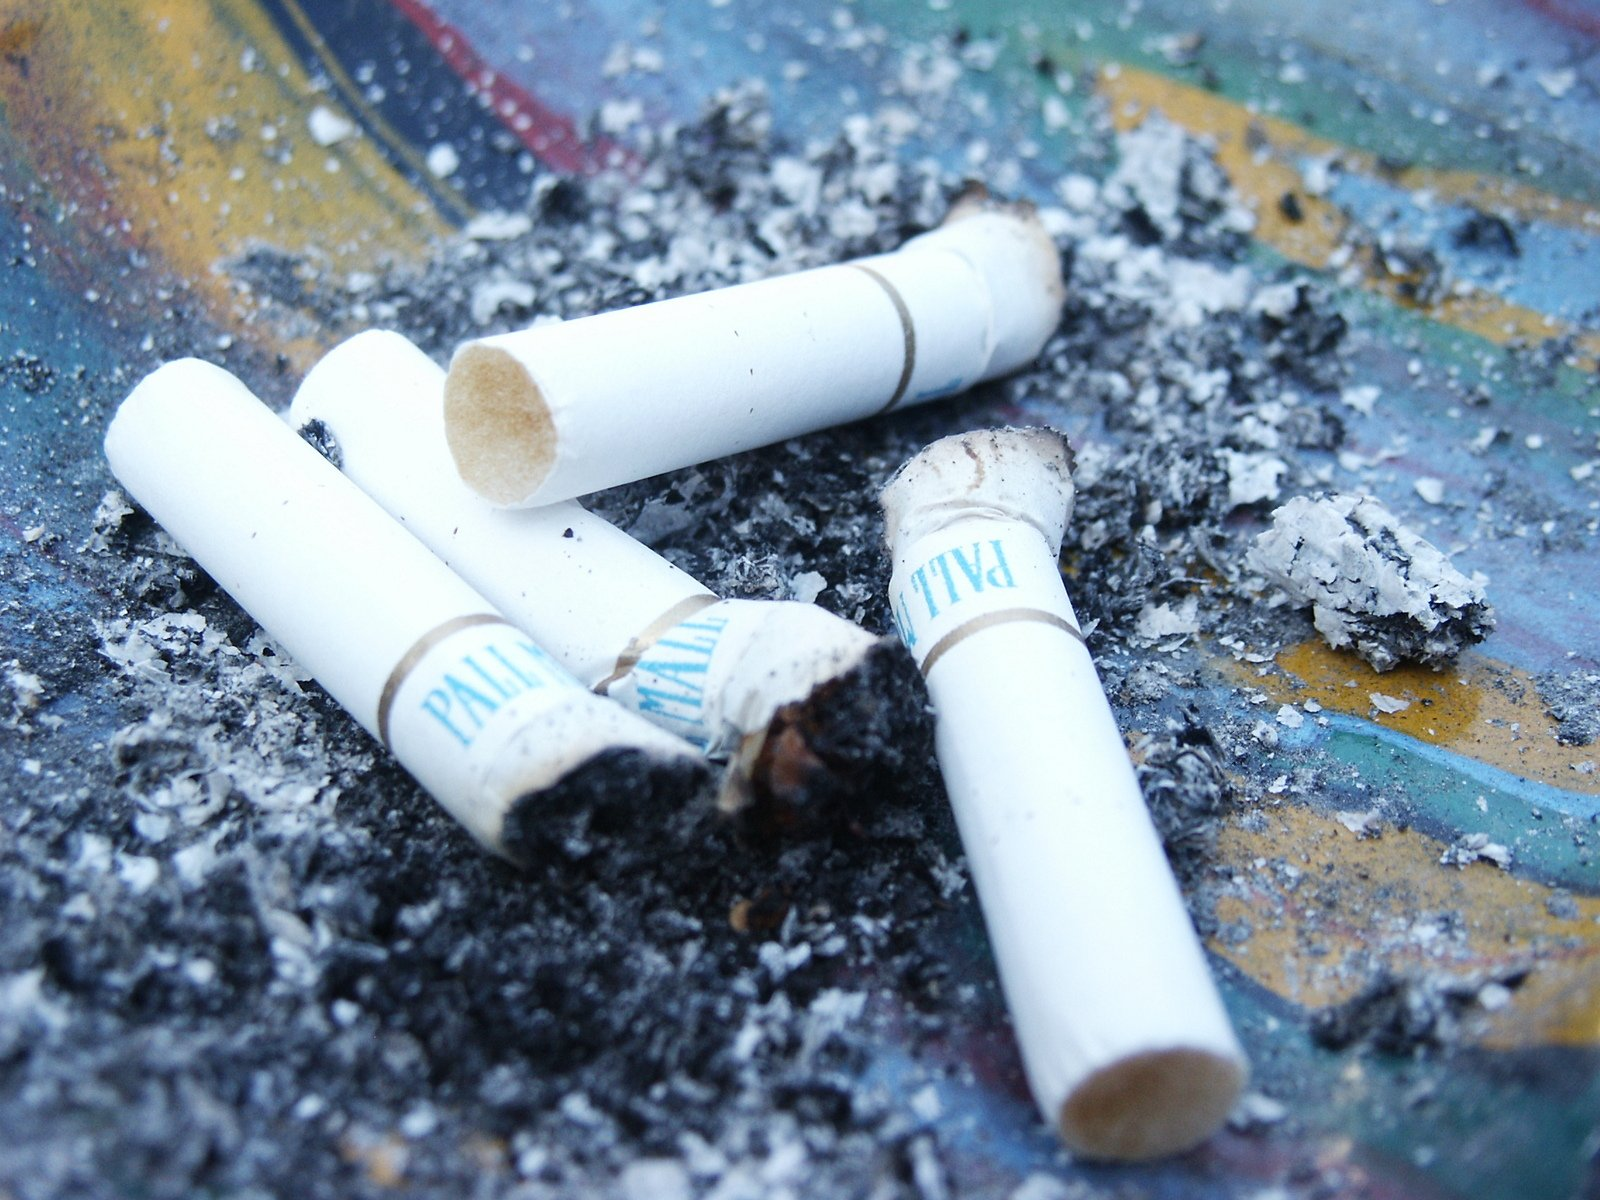cigarette: (103, 348, 707, 868), (277, 326, 873, 798), (879, 431, 1255, 1163), (443, 189, 1070, 504)
